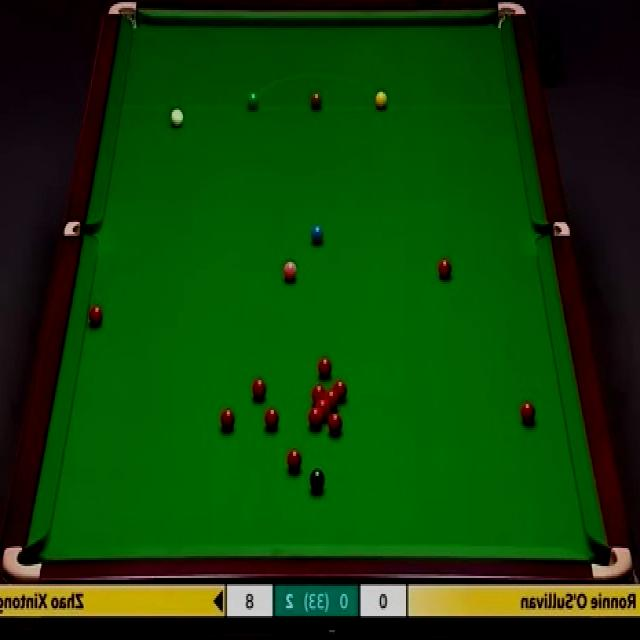pocket: (2, 540, 45, 583), (592, 544, 630, 584), (109, 1, 138, 34), (495, 2, 526, 29), (535, 223, 570, 242), (63, 222, 97, 238)
